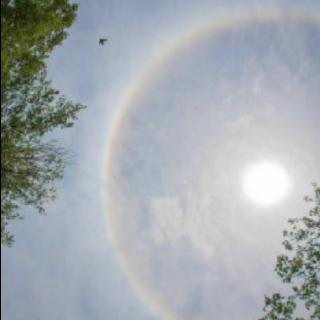Cirrostratus: (76, 2, 320, 320)
